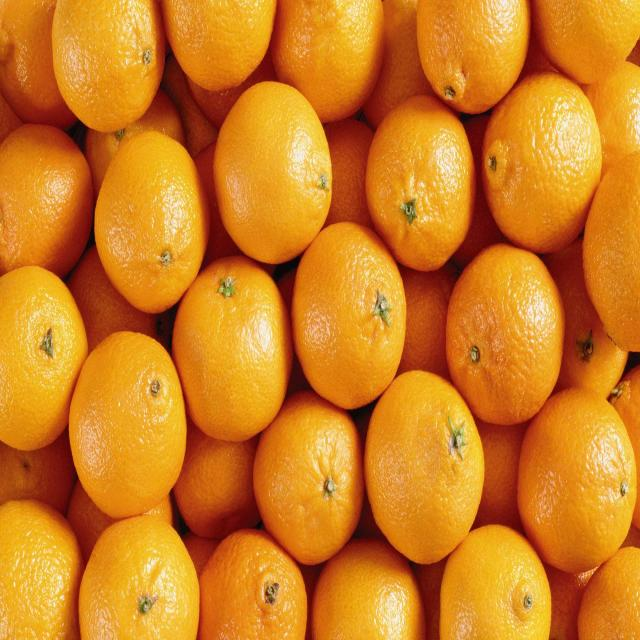orange: (364, 371, 485, 564), (172, 255, 293, 442), (518, 388, 638, 573), (68, 331, 186, 518), (213, 81, 333, 263), (291, 221, 407, 409), (483, 71, 603, 252), (447, 243, 566, 425), (94, 130, 209, 313), (366, 94, 477, 270)
